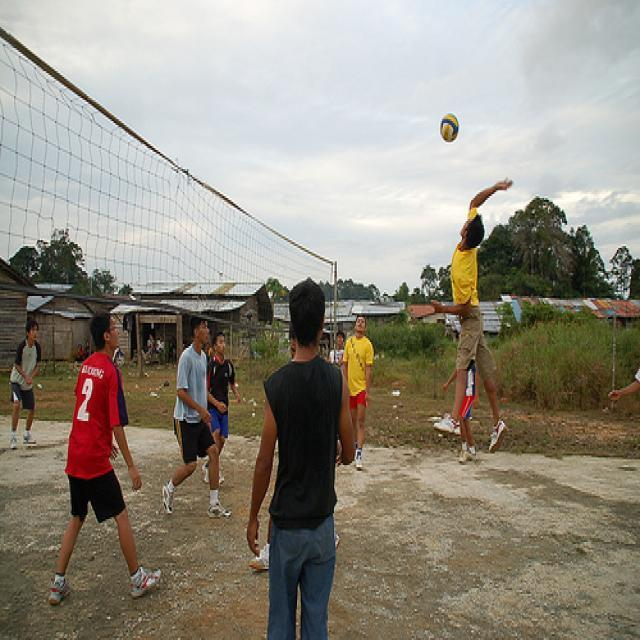volleyball: (439, 112, 460, 144)
